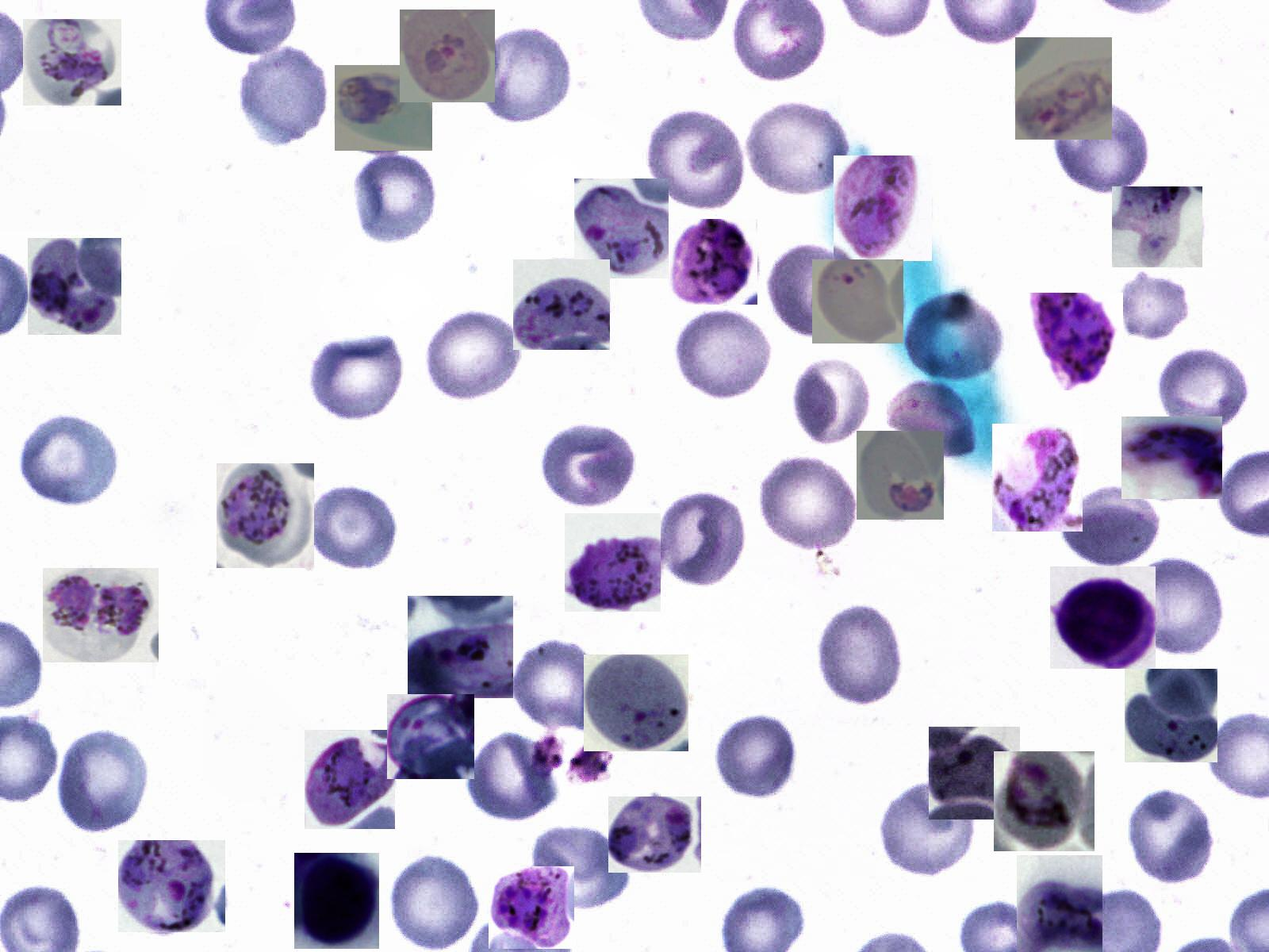Infected: (1050, 566, 1156, 669), (44, 568, 159, 662), (408, 596, 513, 698), (834, 155, 932, 261), (217, 463, 314, 568), (994, 751, 1095, 851), (585, 654, 689, 751), (1015, 37, 1112, 140), (118, 840, 225, 932), (992, 424, 1083, 532), (565, 513, 661, 612), (574, 178, 669, 278), (1029, 293, 1123, 390), (28, 238, 121, 335), (305, 730, 395, 829), (513, 259, 610, 350), (400, 10, 495, 102), (1125, 669, 1217, 762), (23, 19, 121, 106), (929, 727, 1020, 820), (1121, 416, 1222, 499), (335, 65, 432, 151), (1017, 855, 1102, 952), (294, 853, 379, 949), (857, 431, 944, 520), (812, 259, 903, 344), (669, 219, 757, 305), (387, 694, 474, 779), (1112, 186, 1202, 267), (608, 797, 701, 873), (489, 866, 574, 949)
Uninfected: (646, 107, 750, 212), (236, 44, 333, 154), (53, 728, 152, 835), (761, 450, 858, 554), (764, 238, 861, 340), (1126, 559, 1224, 658), (423, 305, 523, 401), (877, 777, 973, 876), (16, 414, 118, 507), (745, 102, 848, 194), (473, 25, 568, 120), (538, 420, 638, 510), (818, 602, 900, 709), (654, 489, 742, 588), (903, 290, 1002, 378), (1054, 97, 1146, 191), (462, 733, 566, 816), (306, 335, 406, 420), (513, 638, 604, 731), (672, 308, 765, 398), (1154, 345, 1246, 434), (392, 853, 479, 947), (527, 826, 630, 905), (348, 152, 437, 243), (1130, 789, 1216, 882), (1060, 484, 1157, 566), (314, 481, 395, 571), (884, 377, 975, 456), (790, 353, 868, 443), (719, 716, 796, 797), (1112, 272, 1190, 340)
